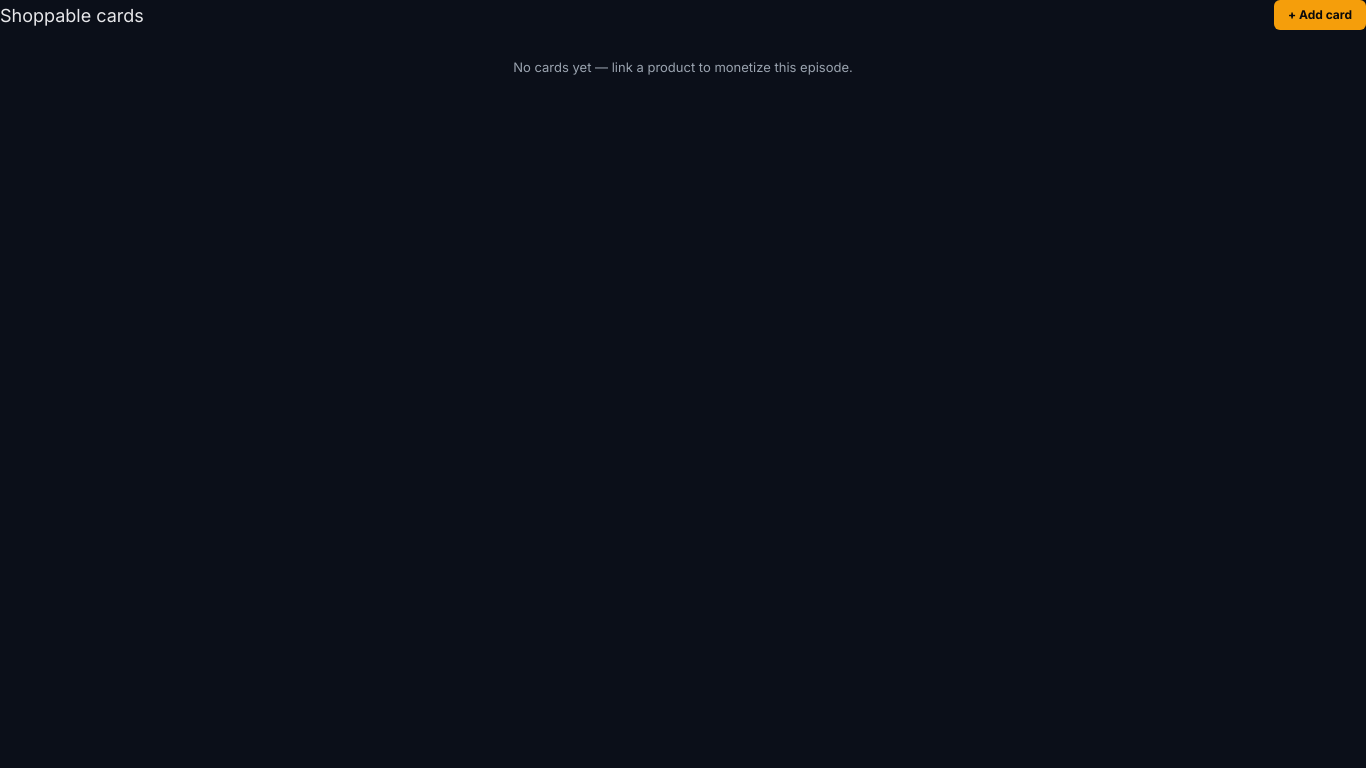
Test: Phase 36d Turn 2 — ShoppableCards › Creator form: renders, submits multipart, triggers refresh
Later steps or results of the test are not shown.
Expected: the text "No cards yet — link a product to monetize this episode." is shown, [513,59,853,75]
Click the button with test id "shoppable-add-btn".
click(1320, 15)  # box [1274,0,1365,30]
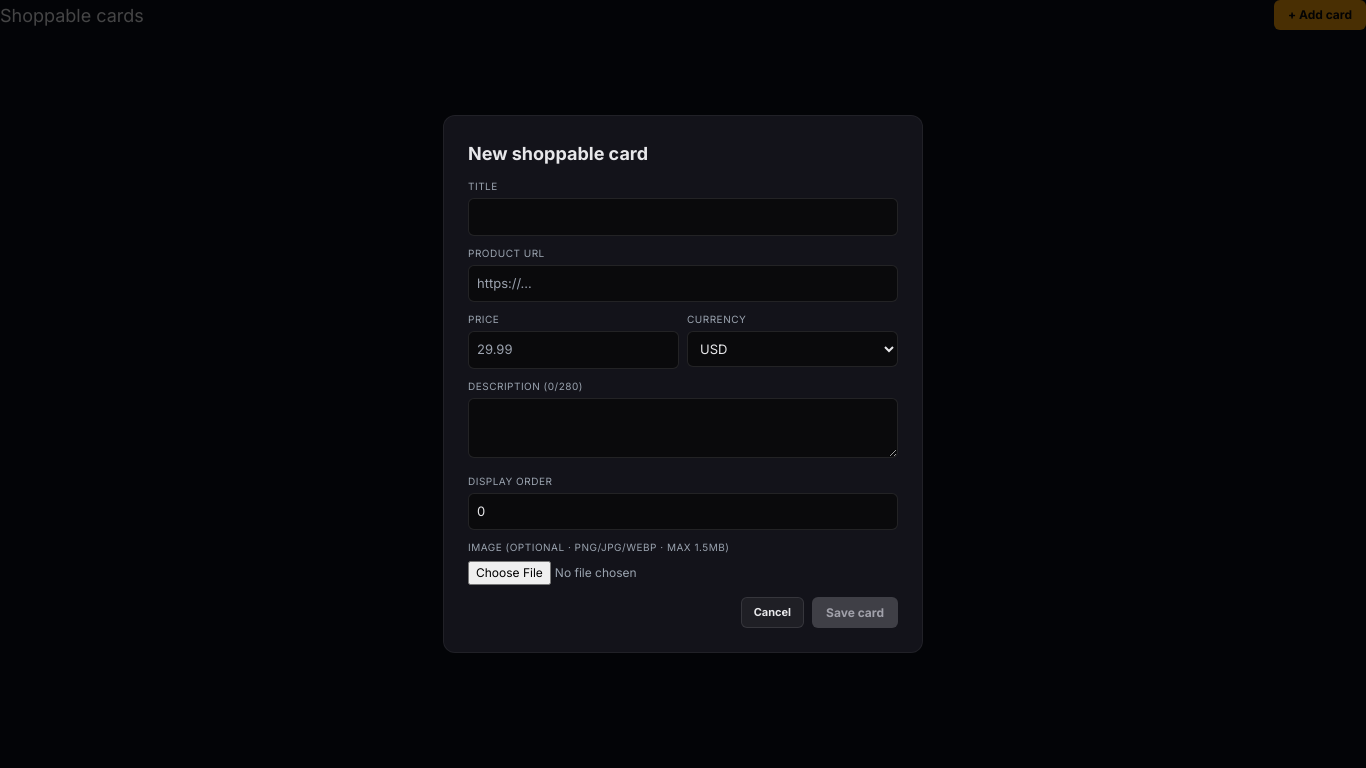
Now the form with test id "shoppable-form" is shown, box [443,115,923,653]
